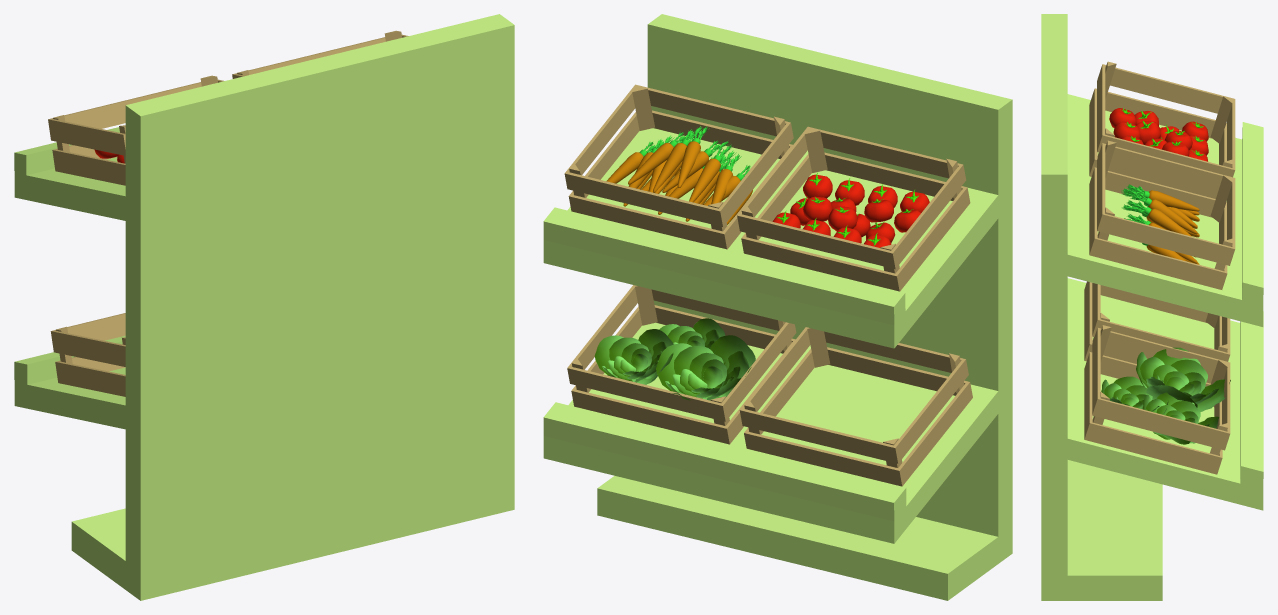
File: Supermarket_Run_Crate.fbx
3 views of the same model, side by side, from view 1: azimuth 30°, elevation 25°; view 2: azimuth 150°, elevation 25°; view 3: azimuth 270°, elevation 25° (orthographic). The views are drawn at different scales.
Parts seen in each view (by area): view 1: Supermarket_Run_Crate_Barrier, Crate02, Crate, Crate03; view 2: Supermarket_Run_Crate_Barrier, Crate02, Crate, Crate03, Crate01, Supermarket_Run_Lattuce, Supermarket_Run_Carrot, Supermarket_Run_Tomato; view 3: Supermarket_Run_Crate_Barrier, Crate03, Crate01, Crate02, Supermarket_Run_Lattuce, Crate, Supermarket_Run_Tomato, Supermarket_Run_Carrot.
Part boxes in pixels (x1=…): Supermarket_Run_Crate_Barrier: x1=14, y1=14, x2=514, y2=600; Crate02: x1=48, y1=75, x2=223, y2=185; Crate: x1=50, y1=313, x2=125, y2=396; Crate03: x1=232, y1=30, x2=408, y2=78; Supermarket_Run_Crate_Barrier: x1=543, y1=14, x2=1012, y2=600; Crate02: x1=737, y1=126, x2=970, y2=291; Crate: x1=739, y1=327, x2=972, y2=486; Crate03: x1=564, y1=84, x2=793, y2=249; Crate01: x1=567, y1=285, x2=796, y2=444; Supermarket_Run_Lattuce: x1=594, y1=318, x2=755, y2=400; Supermarket_Run_Carrot: x1=606, y1=126, x2=752, y2=224; Supermarket_Run_Tomato: x1=772, y1=172, x2=929, y2=247; Supermarket_Run_Crate_Barrier: x1=1041, y1=14, x2=1263, y2=600; Crate03: x1=1089, y1=140, x2=1235, y2=289; Crate01: x1=1084, y1=325, x2=1230, y2=474; Crate02: x1=1089, y1=61, x2=1235, y2=198; Supermarket_Run_Lattuce: x1=1101, y1=347, x2=1230, y2=444; Crate: x1=1084, y1=281, x2=1230, y2=383; Supermarket_Run_Tomato: x1=1109, y1=108, x2=1208, y2=161; Supermarket_Run_Carrot: x1=1121, y1=184, x2=1199, y2=264.
Size of the model in its own units: 68.46 by 84.75 by 40.07.
